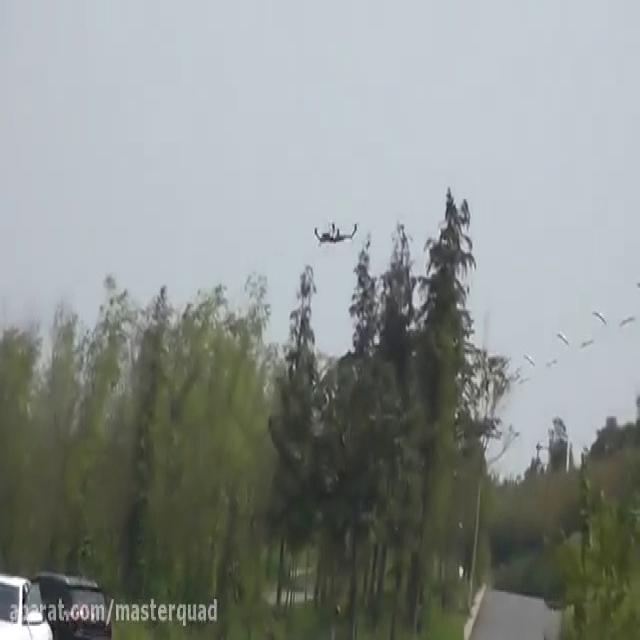drone: (310, 213, 361, 249)
